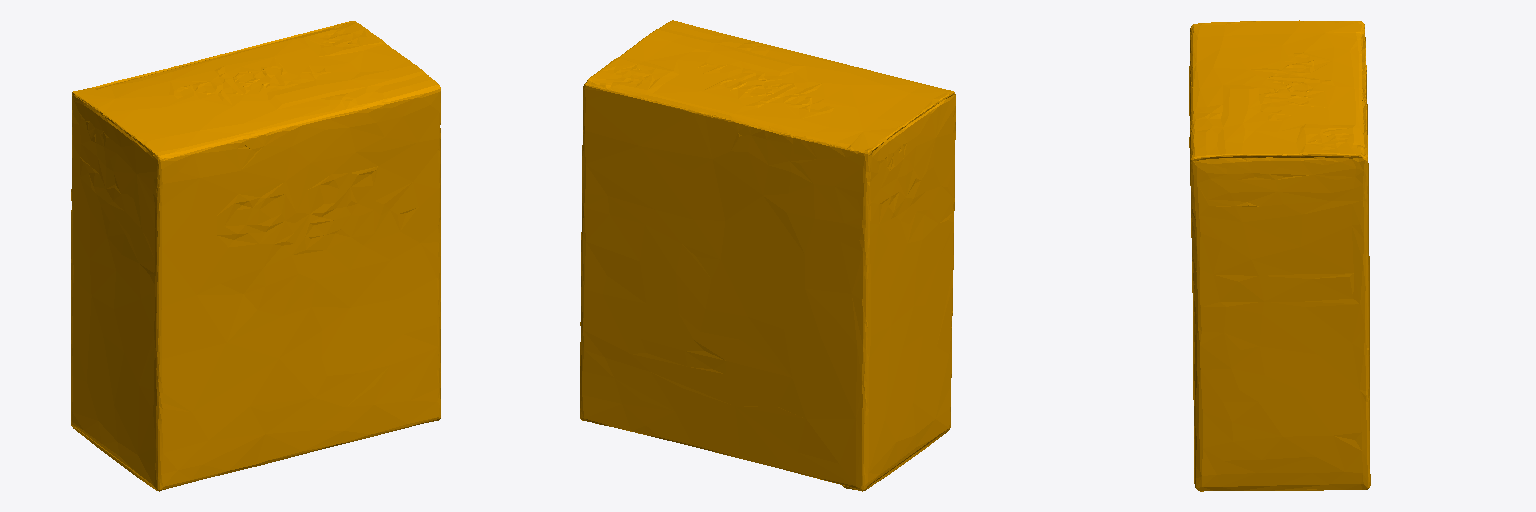
The robot description file, URDF, robot "Phillips_Colon_Health_Probiotic_Capsule":
<?xml version="1.0" ?>
<robot name="Phillips_Colon_Health_Probiotic_Capsule">
  <link name="link_0">
    <inertial>
      <origin xyz="0 0 0" rpy="0 0 0"/>
      <mass value="1.0"/>
      <inertia ixx="0.1" ixy="0.0" ixz="0.0" iyy="0.1" iyz="0.0" izz="0.1"/>
    </inertial>
    <visual name="visual">
      <origin xyz="0 0 0" rpy="0 0 0"/>
      <geometry>
        <mesh filename="meshes/model.obj"/>
      </geometry>
    </visual>
    <collision name="collision_0">
      <origin xyz="0 0 0" rpy="0 0 0"/>
      <geometry>
        <mesh filename="meshes/model.obj"/>
      </geometry>
    </collision>
  </link>
</robot>

--- What the picture shows (computed from the rendered views, not written in the file) ---
The picture shows the robot from 3 angles, left to right: view 1: azimuth 30°, elevation 25°; view 2: azimuth 150°, elevation 25°; view 3: azimuth 270°, elevation 25°; orthographic projection.
Model Phillips_Colon_Health_Probiotic_Capsule with 1 links and 0 joints (none), rooted at link_0, posed every joint at zero.
Visible links, largest first — view 1: link_0; view 2: link_0; view 3: link_0.
Boxes of the visible links, x1,y1,x2,y2 form: link_0: [71, 21, 440, 491]; link_0: [580, 20, 955, 491]; link_0: [1189, 20, 1370, 491].
Size in the robot's own frame: 0.1039 by 0.0571 by 0.1182 metres.
Meshes: 1 distinct files referenced, 1 mesh visuals loaded (1 OBJ).